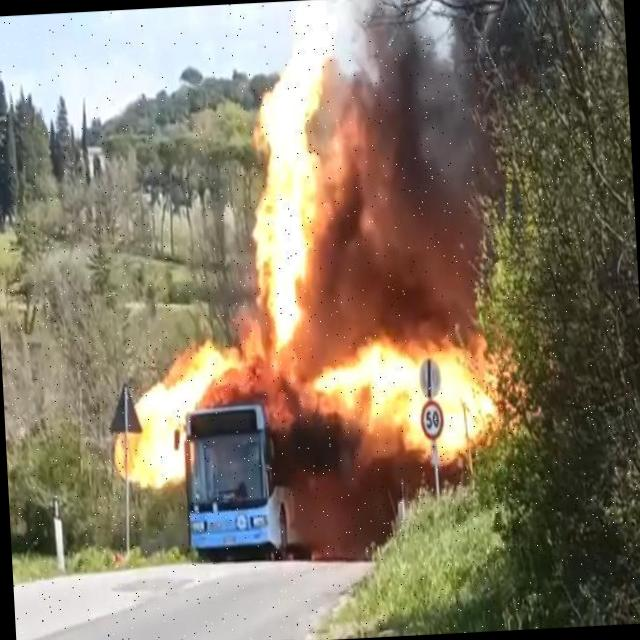Fire: (248, 3, 346, 355), (317, 322, 510, 468), (111, 343, 245, 471)
Smoke: (356, 18, 494, 316), (312, 488, 403, 560)
